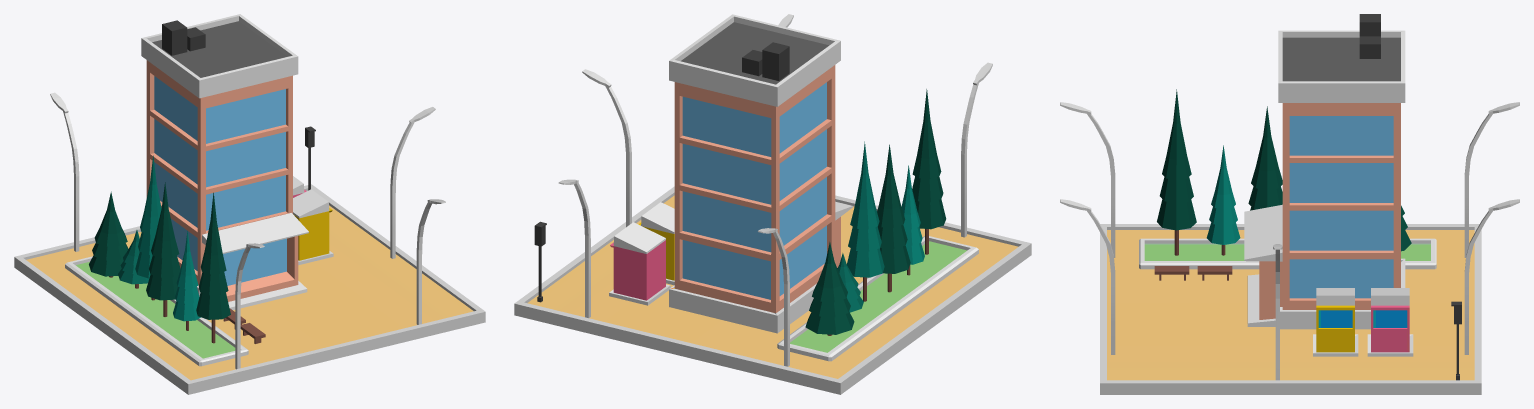
Rendered from building_a.obj.
3 renders of one model, left to right at view 1: azimuth 30°, elevation 25°; view 2: azimuth 150°, elevation 25°; view 3: azimuth 270°, elevation 25°, orthographic. The views are drawn at different scales.
Parts seen in each view (by area): view 1: House_2, Floor_2, Cube.7_1, Firtree.4_1, Firtree.1_1, Muff.1, Firtree.47_1, Firtree.2_1, Firtree_1, Light.2_2, Light.4, Light.1_2 (+2 smaller); view 2: House_2, Floor_2, Cube.7_1, Muff, Firtree.2_1, Firtree.4_1, Firtree.1_1, Firtree.47_1, Muff.1, Firtree_1, Light_2, Light.4 (+4 smaller); view 3: Floor_2, House_2, Cube.7_1, Firtree.4_1, Muff, Muff.1, Firtree.1_1, Firtree_1, Light.1_2, Light.3_2, Light.2_2, Light_2 (+1 smaller).
Boxes of the visible parts, x1,y1,x2,y2 form: House_2: (141,14,308,310); Floor_2: (14,184,485,394); Cube.7_1: (65,256,248,366); Firtree.4_1: (196,192,230,343); Firtree.1_1: (146,182,180,316); Muff.1: (293,189,333,265); Firtree.47_1: (89,191,128,277); Firtree.2_1: (135,155,161,300); Firtree_1: (173,231,200,330); Light.2_2: (50,92,79,251); Light.4: (390,107,435,258); Light.1_2: (416,199,445,324); House_2: (669,14,852,333); Floor_2: (514,186,1031,394); Cube.7_1: (777,236,978,361); Muff: (609,222,670,305); Firtree.2_1: (846,141,884,301); Firtree.4_1: (912,89,946,254); Firtree.1_1: (877,144,910,292); Firtree.47_1: (805,242,854,335); Muff.1: (638,202,674,285); Firtree_1: (901,165,924,275); Light_2: (961,62,992,237); Light.4: (582,69,631,227); Floor_2: (1100,224,1481,394); House_2: (1244,14,1405,329); Cube.7_1: (1139,238,1436,269); Firtree.4_1: (1157,89,1196,255); Muff: (1367,288,1413,356); Muff.1: (1313,288,1358,356); Firtree.1_1: (1248,106,1282,210); Firtree_1: (1206,145,1240,255); Light.1_2: (1060,199,1115,354); Light.3_2: (1464,199,1519,354); Light.2_2: (1464,102,1519,257); Light_2: (1060,102,1115,257).
Bounding box in the file's own units: 17.46 × 12.95 × 19.38.
Materials: 1 (1 with a texture image).
